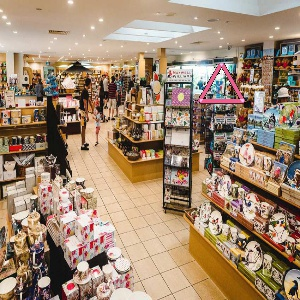triangle: (192, 60, 249, 107)
